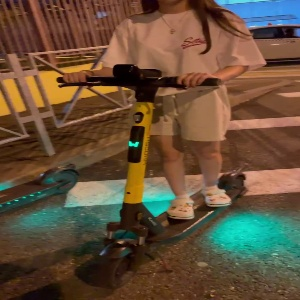human on a scooter: (56, 1, 270, 289)
